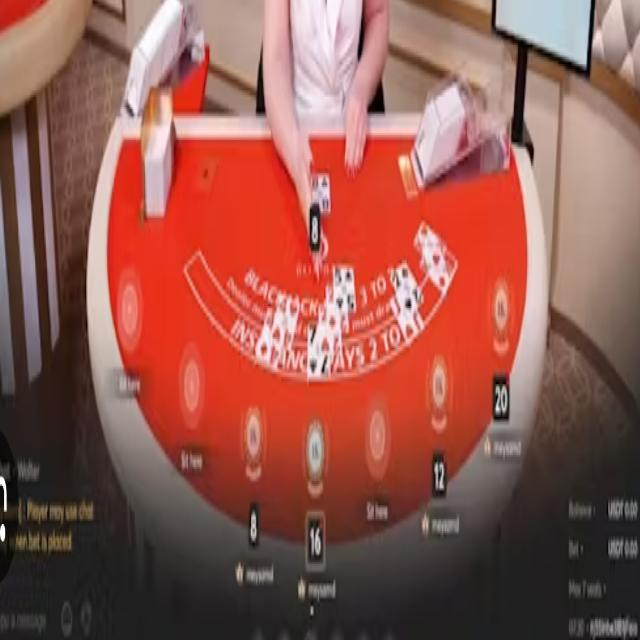Card-2: (389, 261, 424, 318), (319, 302, 341, 352), (326, 287, 349, 332)
Card-4: (256, 305, 282, 371), (272, 293, 298, 352)
Card-5: (334, 266, 356, 312)
Card-7: (307, 320, 330, 379)
Card-8: (312, 169, 330, 210)
Card-J: (390, 295, 424, 346)
Card-K: (423, 251, 457, 294), (414, 218, 445, 264)
